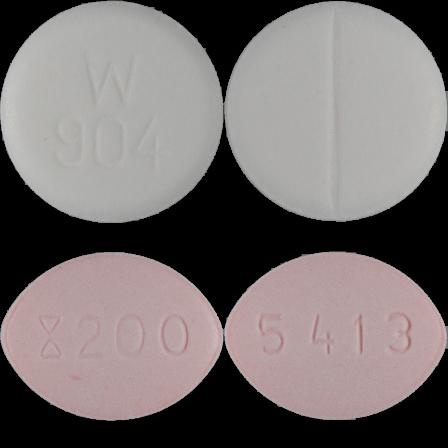10544-175: (0, 0, 224, 224)
